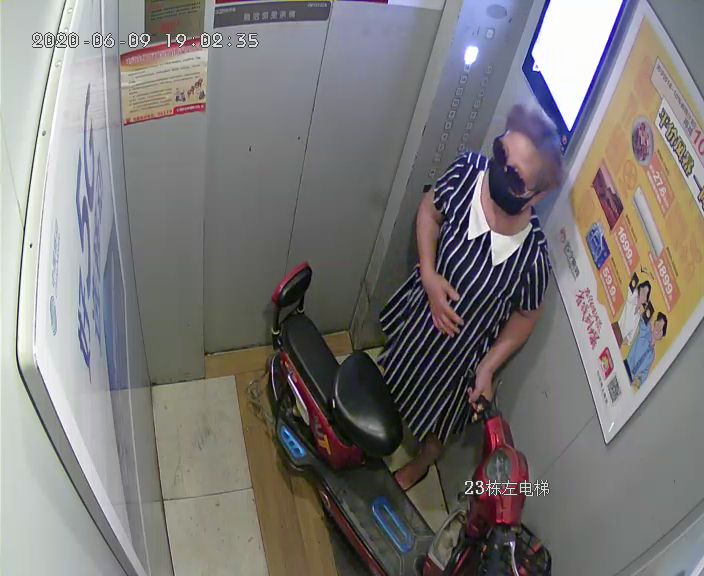Electric-bicycle: (253, 261, 552, 576)
